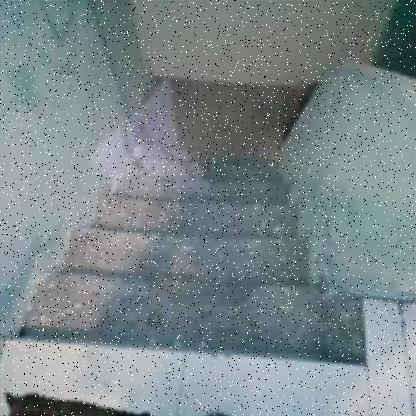stair_down: (27, 225, 316, 383)
